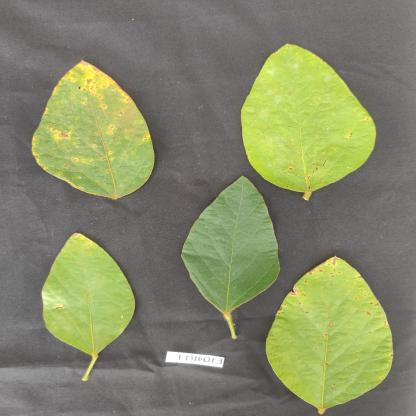label: (164, 343, 232, 377)
leaflets: (11, 51, 166, 207), (248, 248, 394, 412), (250, 30, 378, 193), (178, 156, 280, 324), (30, 220, 145, 350)
